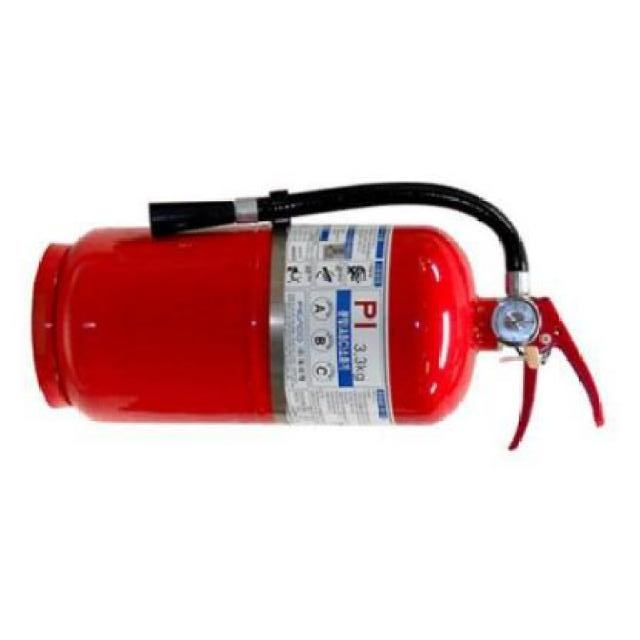fire extinguisher: (30, 183, 605, 452)
